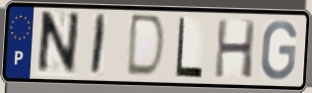D: (124, 12, 169, 81)
G: (259, 19, 299, 82)
H: (213, 17, 259, 80)
I: (88, 12, 110, 78)
L: (173, 15, 205, 81)
N: (34, 9, 83, 78)
